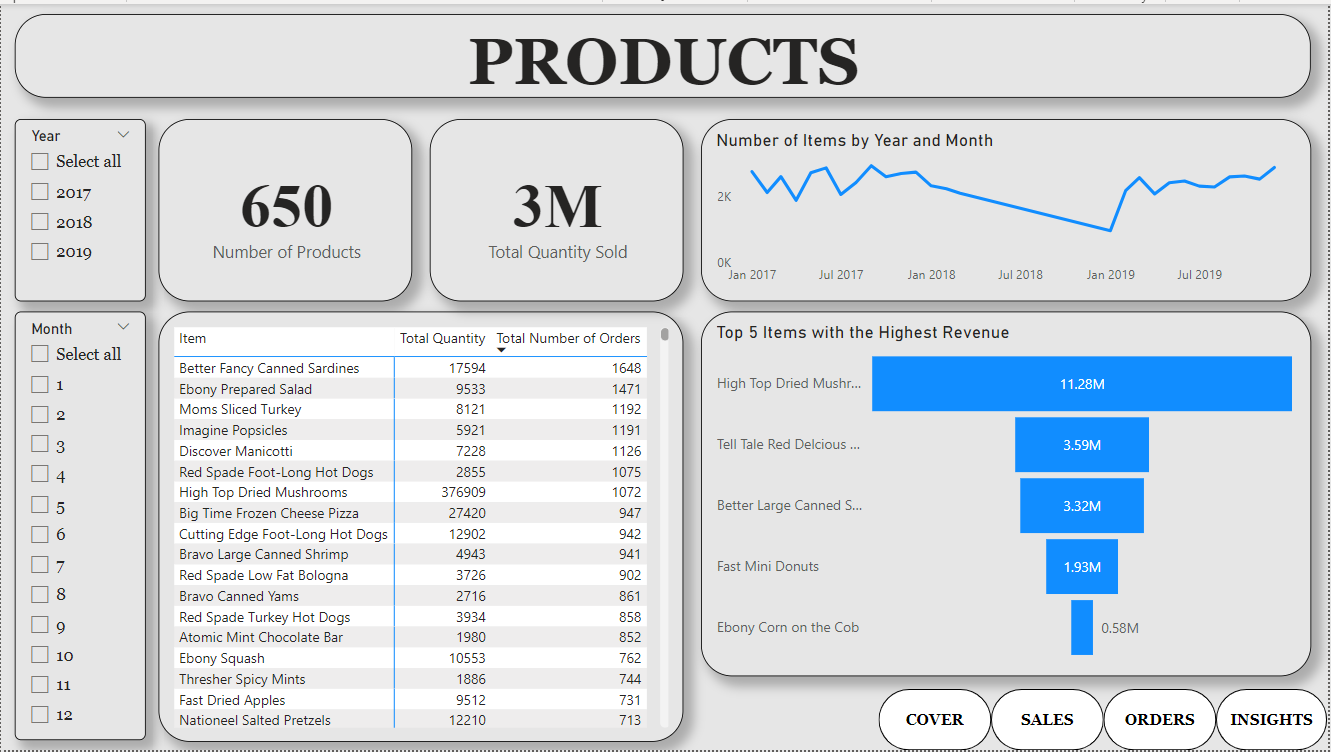

The page's visual inventory and layout, read from the dashboard file:
{"tool":"powerbi","page":{"name":"PRODUCTS","canvas":[1280,720],"ordinal":3},"visuals":[{"type":"textbox","title":"PRODUCTS","box":[13.3,9.6,1250.7,80.8],"z":0},{"type":"slicer","fields":{"Values":["Amazon_dataset.Year"]},"box":[13.3,111,126.6,176.1],"z":1000},{"type":"slicer","fields":{"Values":["Amazon_dataset.Month"]},"box":[13.3,296.7,126.6,413.7],"z":2000},{"type":"card","fields":{"Values":["Count(Amazon_dataset.Item)"]},"box":[152,111,244.8,176.1],"z":3000},{"type":"lineChart","fields":{"Y":["CountNonNull(Amazon_dataset.Item)"],"Category":["Amazon_dataset.Month_Year.Variation.Date Hierarchy.Year","Amazon_dataset.Month_Year.Variation.Date Hierarchy.Month"]},"box":[675.4,111,588.5,176.1],"z":4000},{"type":"pivotTable","fields":{"Rows":["Amazon_dataset.Item"],"Values":["Sum(Amazon_dataset.Sales Quantity)","CountNonNull(Amazon_dataset.Order Number)"]},"box":[152,296.7,506.5,414.9],"z":5000},{"type":"card","fields":{"Values":["Sum(Amazon_dataset.Sales Quantity)"]},"box":[413.7,111,244.8,176.1],"z":6000},{"type":"funnel","title":"Top 5 Items with the Highest Revenue","fields":{"Category":["Amazon_dataset.Item"],"Y":["Sum(Amazon_dataset.Sales Amount)"]},"box":[675.4,296.7,588.5,352.2],"z":7000},{"type":"shape","box":[1172.3,660.9,107.3,59.1],"z":8000},{"type":"shape","box":[1063.7,660.9,108.5,59.1],"z":9000},{"type":"shape","box":[955.2,660.9,108.5,59.1],"z":10000},{"type":"shape","box":[846.6,660.9,108.5,59.1],"z":11000}]}

Visuals, with their boxes in screenshot pixels (x1, y1, x2, y2), scaled from the page's 1280x720 canvas onto the 1331x752 screenshot:
"PRODUCTS" textbox: <box>14,10,1314,94</box>
slicer - Amazon_dataset.Year: <box>14,116,145,300</box>
slicer - Amazon_dataset.Month: <box>14,310,145,742</box>
card - Count(Amazon_dataset.Item): <box>158,116,413,300</box>
lineChart - CountNonNull(Amazon_dataset.Item) x Amazon_dataset.Month_Year.Variation.Date Hierarchy.Year: <box>702,116,1314,300</box>
pivotTable - Amazon_dataset.Item x Sum(Amazon_dataset.Sales Quantity): <box>158,310,685,743</box>
card - Sum(Amazon_dataset.Sales Quantity): <box>430,116,685,300</box>
"Top 5 Items with the Highest Revenue" funnel: <box>702,310,1314,678</box>
shape: <box>1219,690,1330,751</box>
shape: <box>1106,690,1219,751</box>
shape: <box>993,690,1106,751</box>
shape: <box>880,690,993,751</box>
